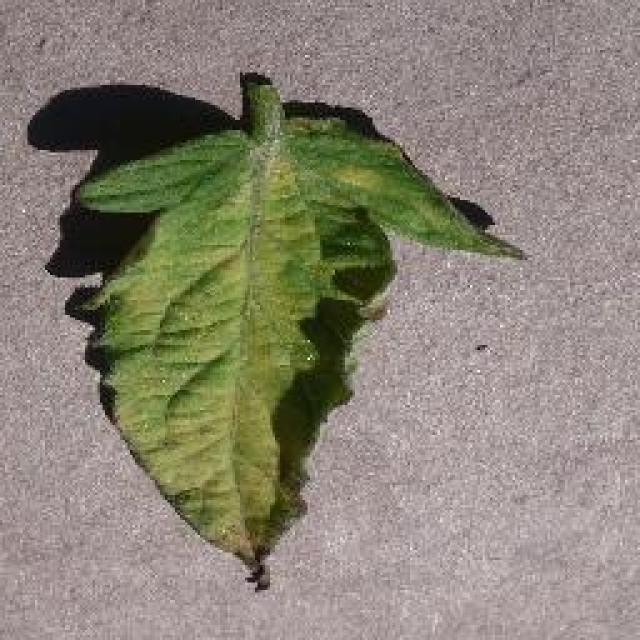Tomato___Leaf_Mold: (78, 75, 520, 590)
